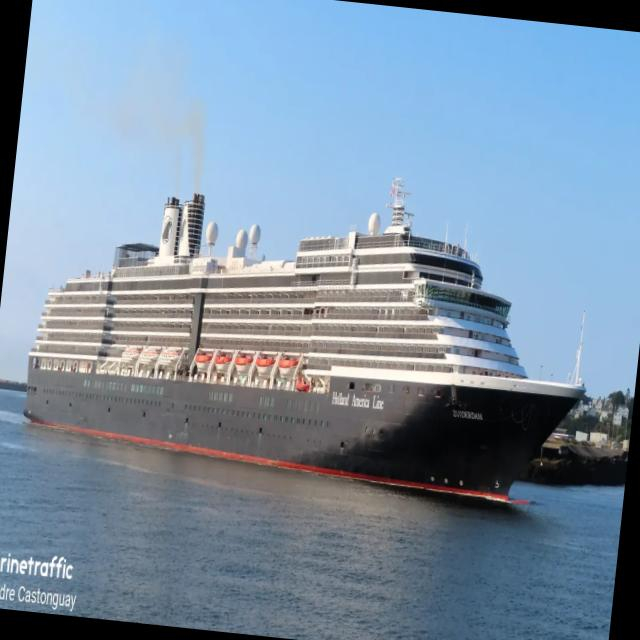Cruise: (24, 178, 584, 498)
